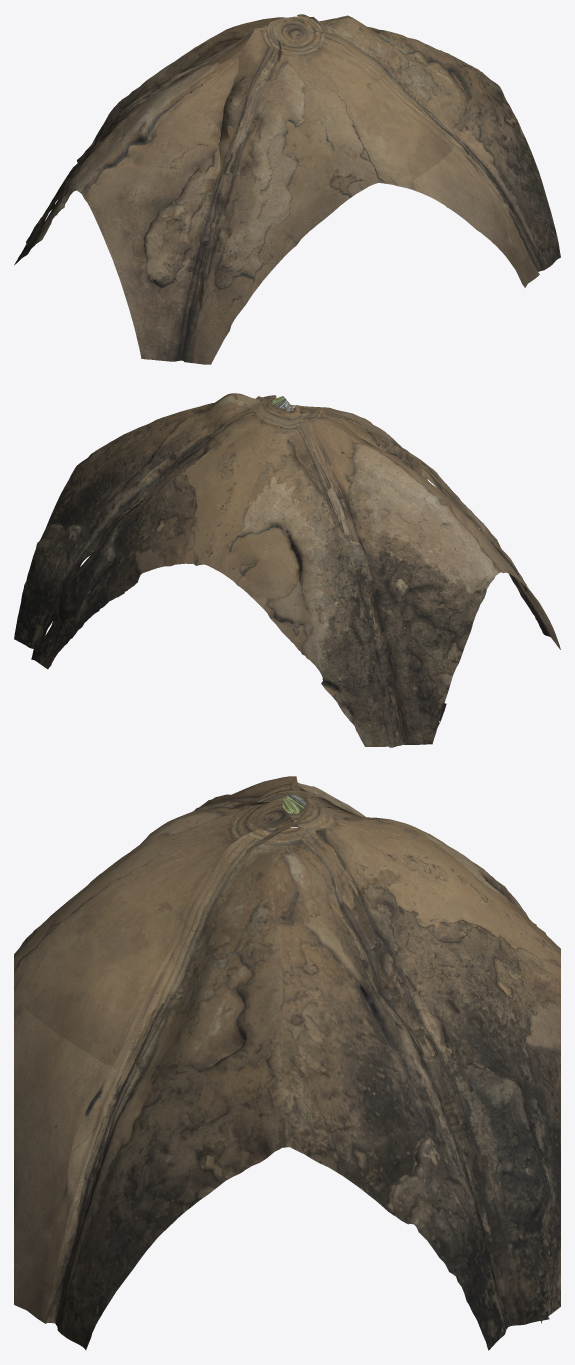
File: sm_Chapel_01_09.fbx
3 renders of one model, top to bottom at view 1: azimuth 30°, elevation 25°; view 2: azimuth 150°, elevation 25°; view 3: azimuth 270°, elevation 25°, orthographic. The views are drawn at different scales.
Visible parts, largest first — view 1: sm_Chapel_01_09_LOD0; view 2: sm_Chapel_01_09_LOD0; view 3: sm_Chapel_01_09_LOD0.
Boxes of the visible parts, box(x1,y1,x2,y2) form: sm_Chapel_01_09_LOD0: box(14, 14, 560, 364); sm_Chapel_01_09_LOD0: box(14, 393, 560, 747); sm_Chapel_01_09_LOD0: box(14, 776, 560, 1350).
Bounding box in the file's own units: 203 × 143 × 113.
